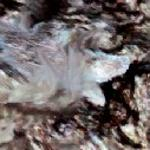alive: (6, 4, 147, 148)
